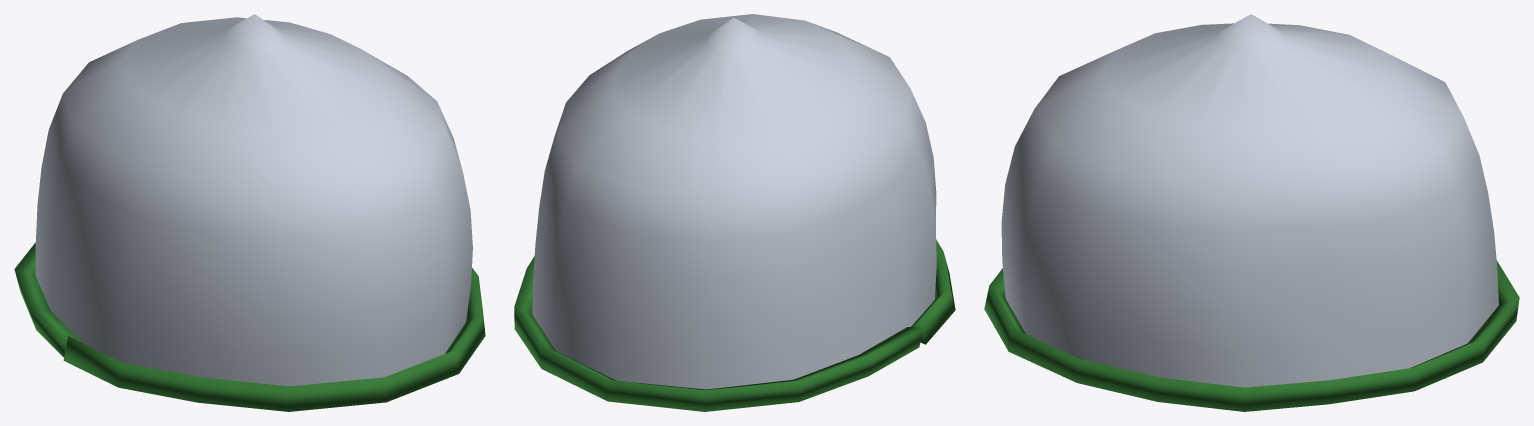
File: golf_visor.glb
3 renders of one model, left to right at view 1: azimuth 30°, elevation 25°; view 2: azimuth 150°, elevation 25°; view 3: azimuth 270°, elevation 25°, orthographic. The views are drawn at different scales.
Parts seen in each view (by area): view 1: golf_visor_head; view 2: golf_visor_head; view 3: golf_visor_head.
Part boxes in pixels (box(x1,y1,x2,y2)): golf_visor_head: box(14, 14, 485, 411); golf_visor_head: box(514, 14, 955, 411); golf_visor_head: box(984, 14, 1519, 411).
Bounding box in the file's own units: 0.2403 × 0.1779 × 0.281.
